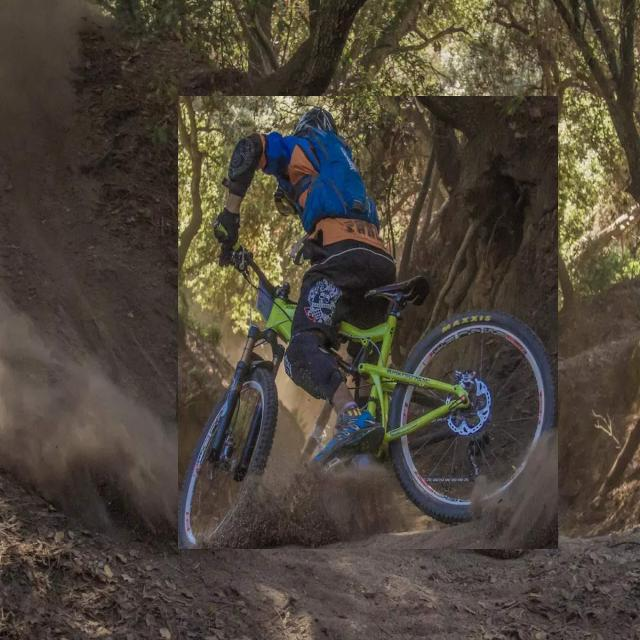bicycle: (178, 96, 558, 549)
